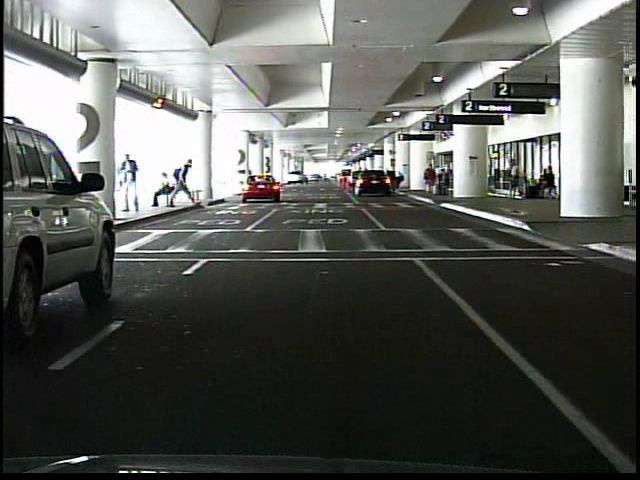person: (167, 159, 201, 209), (122, 153, 140, 212), (151, 171, 177, 209), (422, 163, 438, 197), (508, 158, 521, 199), (444, 166, 445, 195)
